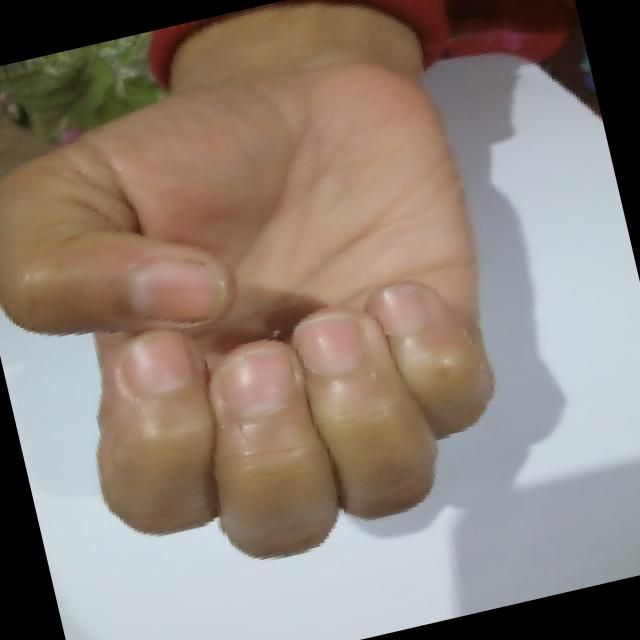Nail: (126, 257, 231, 321), (215, 346, 293, 415), (121, 330, 199, 396), (293, 311, 367, 376), (366, 283, 424, 338)
